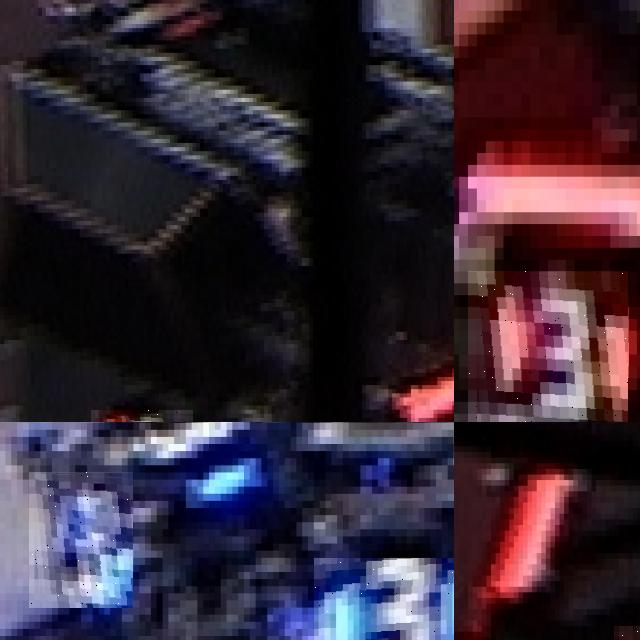B3: (29, 472, 133, 608), (313, 558, 454, 640)
R3: (468, 271, 628, 422)
